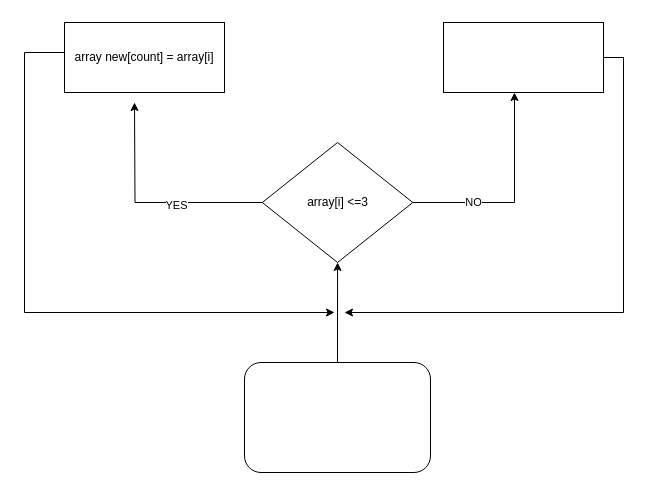
This 649x490 diagram has some shape labels left out. Here are the shapes that lost their labels. From the top down, the box of each, then its label:
(442, 22, 604, 92): i = i + 1
(244, 362, 430, 472): string[] array i = 0 string[] arrayN count = 0
